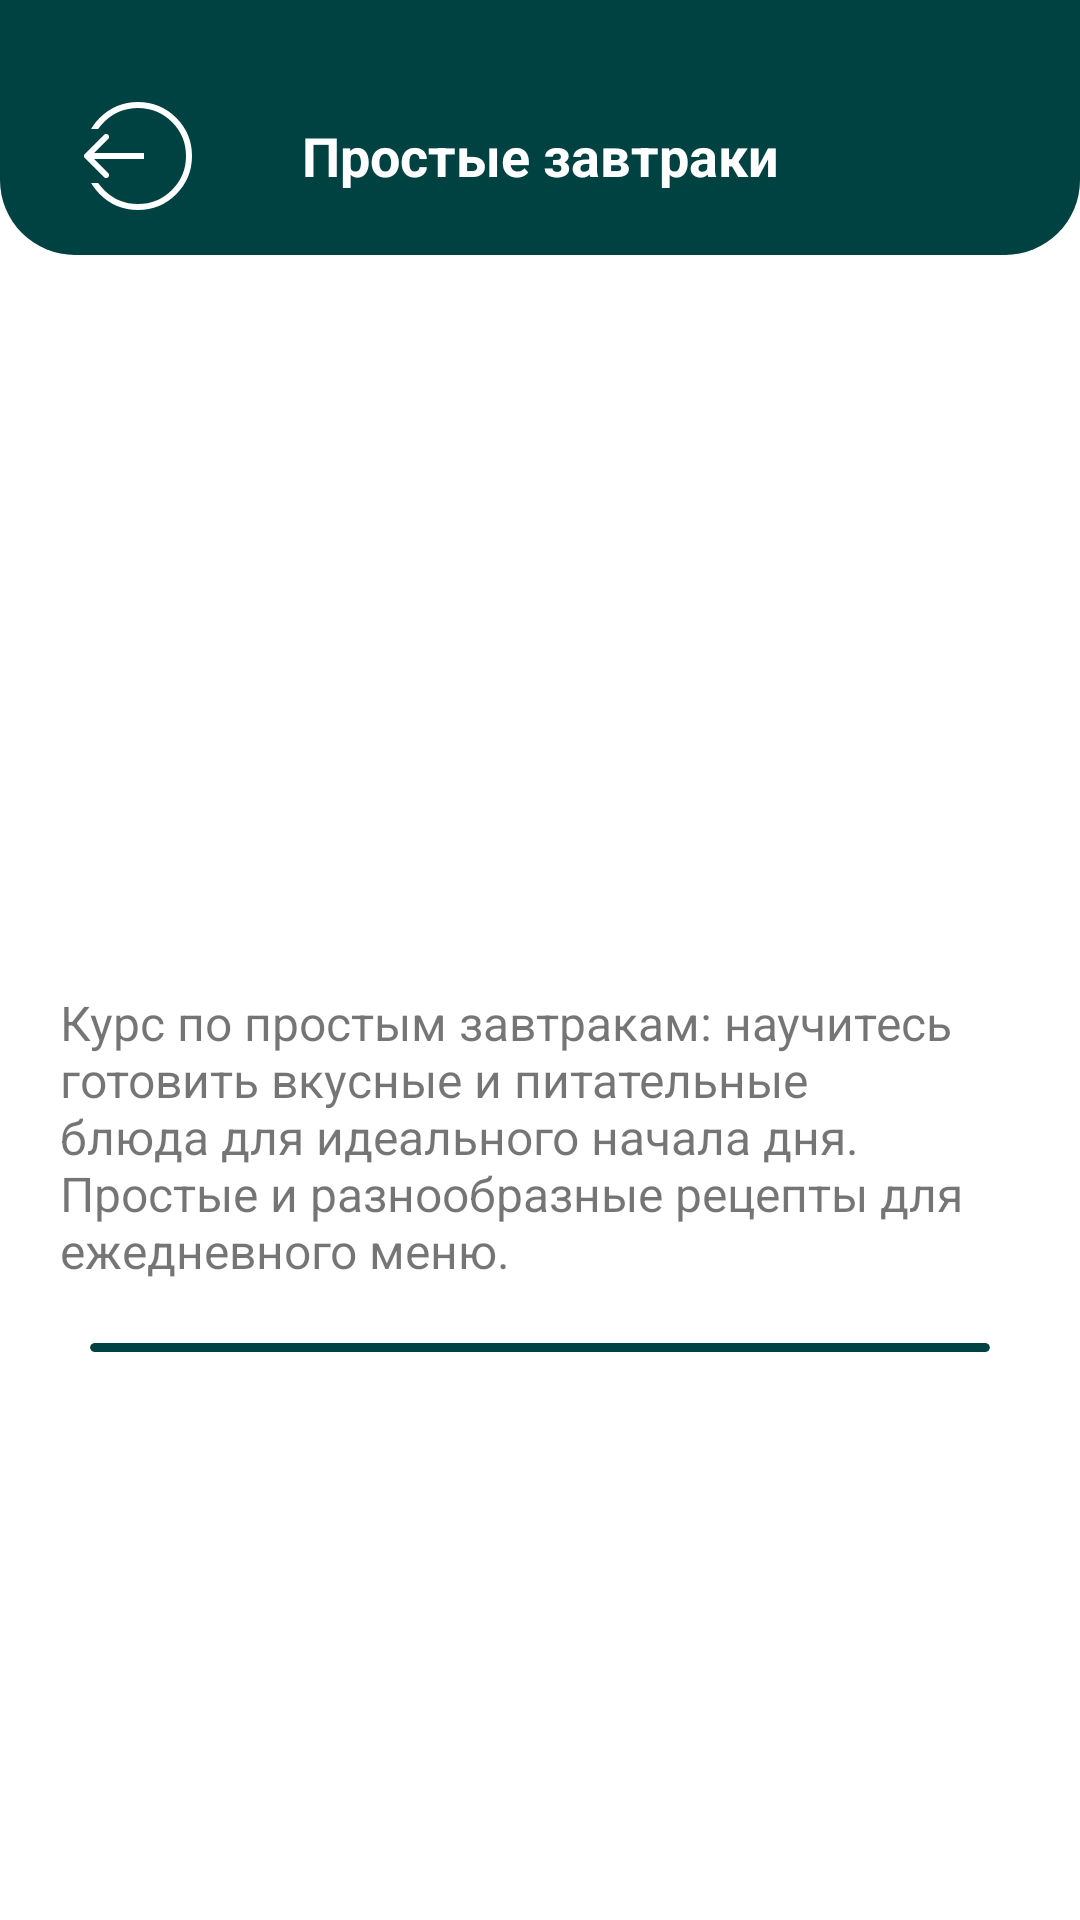

Named icons in this screenshot (1080px x 1920px) and their centers, (x=x, y=y):
exit: (x=138, y=156)
